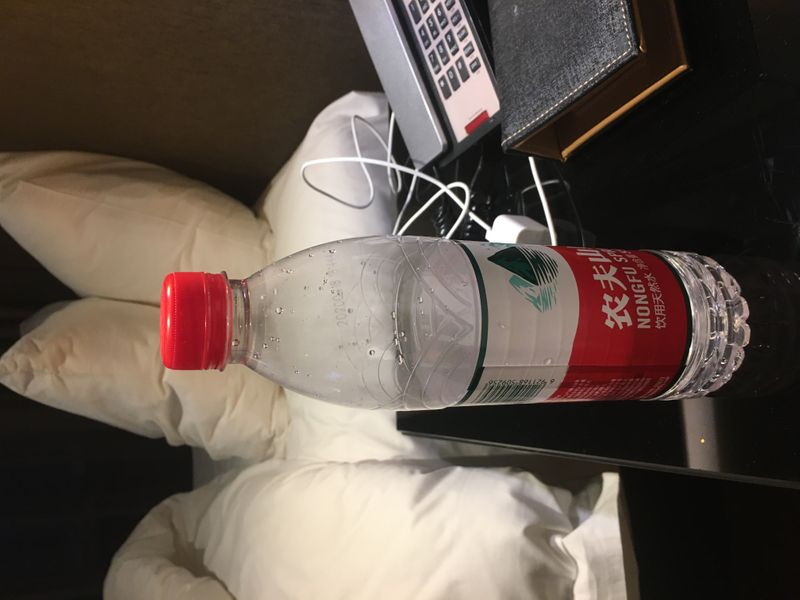5eca67a90202601e8cb8d104: (150, 241, 752, 405)
